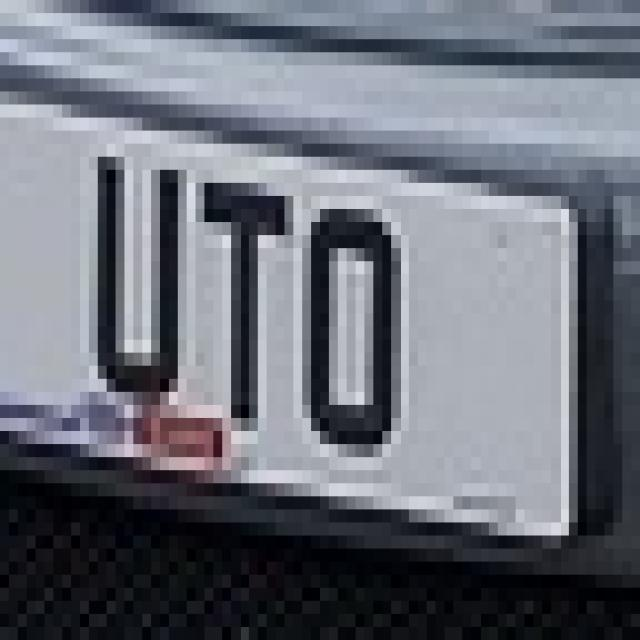licenseplate: (1, 64, 628, 566)
